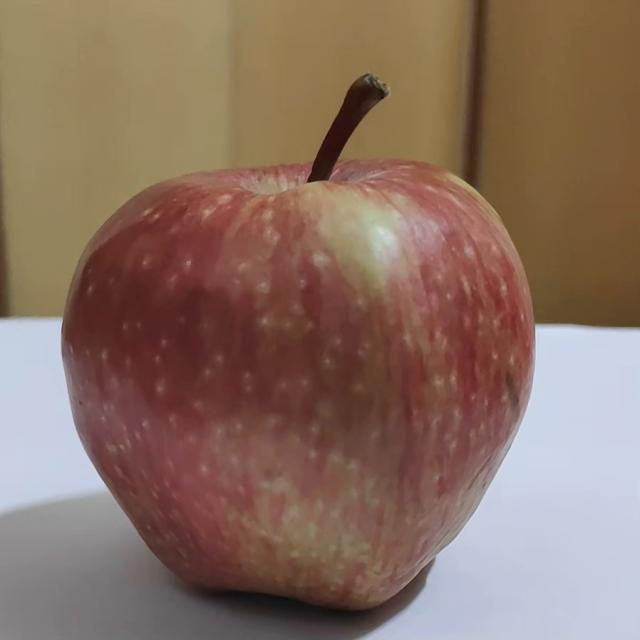Wet: (51, 71, 532, 614)
